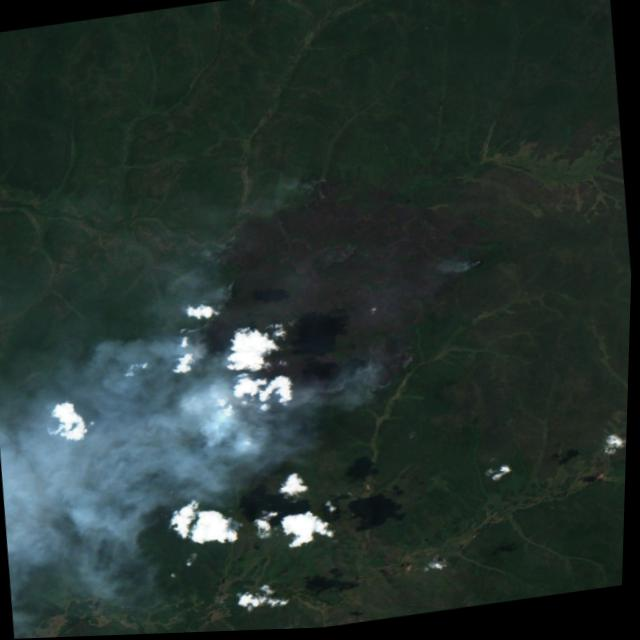fire: (338, 351, 411, 402), (208, 276, 247, 311), (288, 175, 337, 198), (454, 257, 491, 279)
